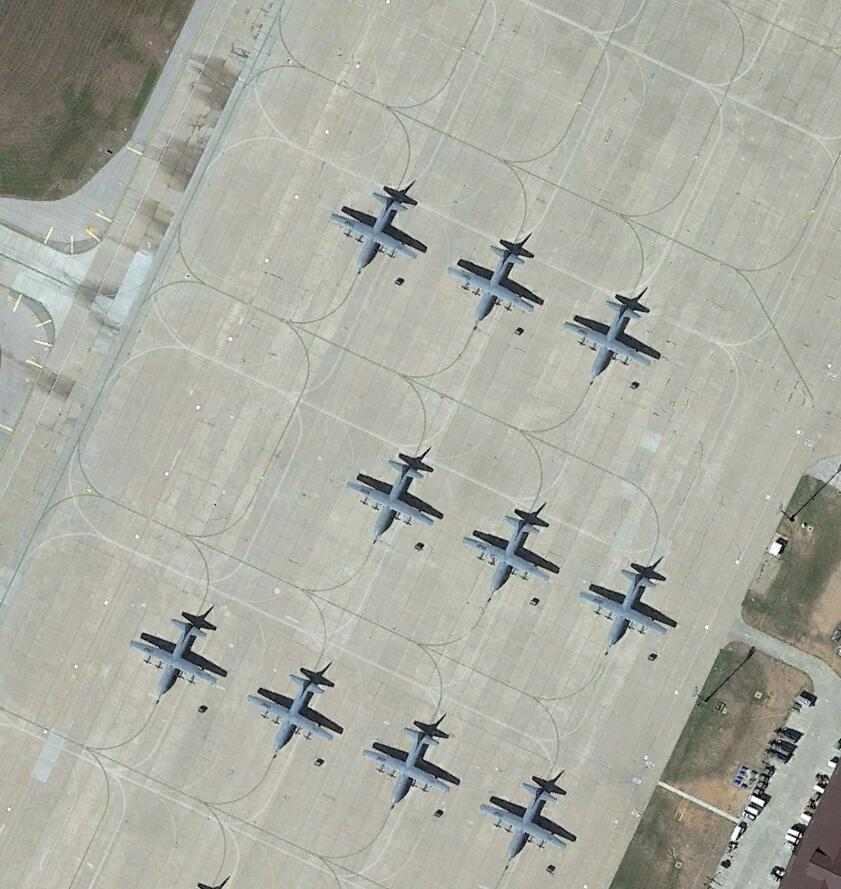A2: (325, 176, 434, 276), (129, 597, 233, 700), (459, 495, 566, 594), (445, 227, 549, 326), (358, 710, 465, 806), (477, 763, 580, 862), (343, 443, 447, 540), (577, 554, 682, 647), (565, 285, 666, 381), (251, 655, 347, 754)
